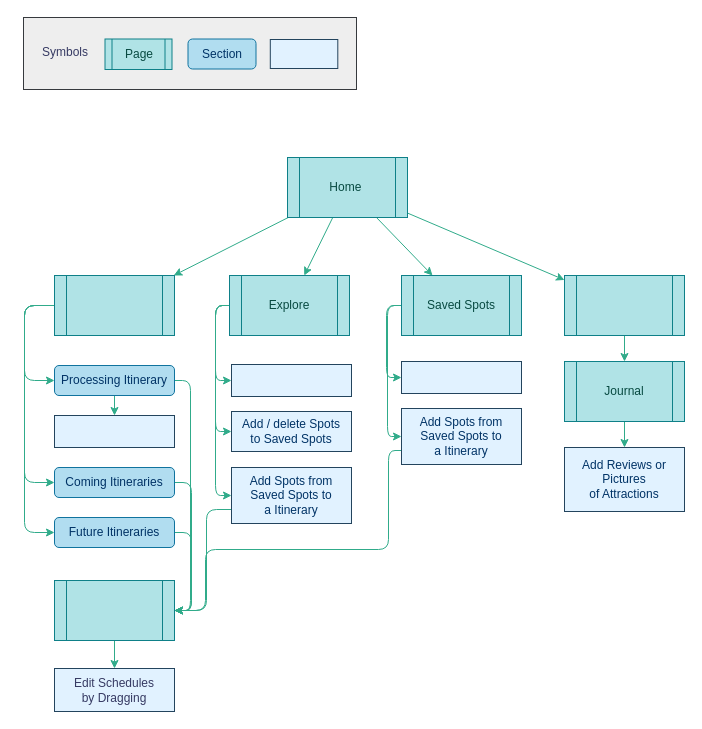
The diagram is 702 pixels wide and 729 high, and some of its shapes have lost their labels. Here are the shapes that lost their labels. From the top down, the centre of each, then its label:
[303,53]: Features
[114,305]: Itineraries
[624,305]: Journals
[291,380]: Search Attrations
[461,377]: Delete Saved Spots
[114,431]: Check In Feature
[114,610]: Itinerary
